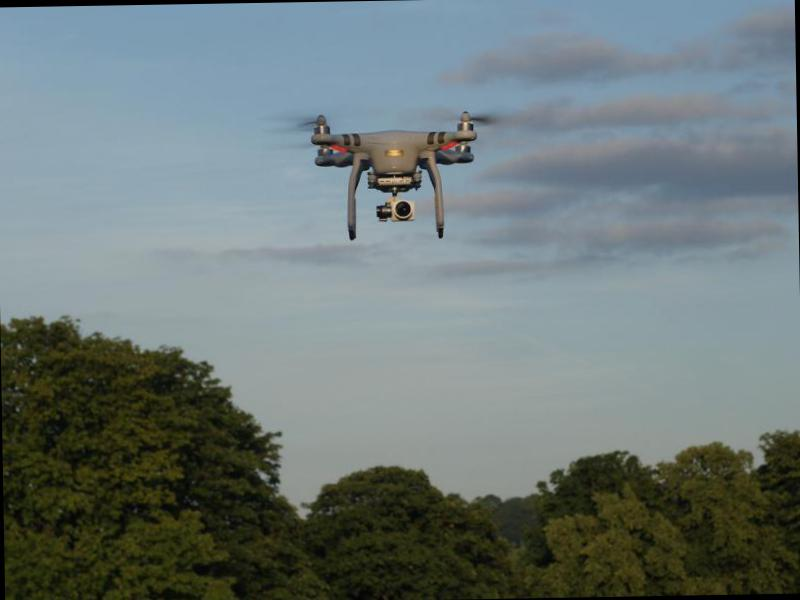drone: (293, 107, 487, 241)
